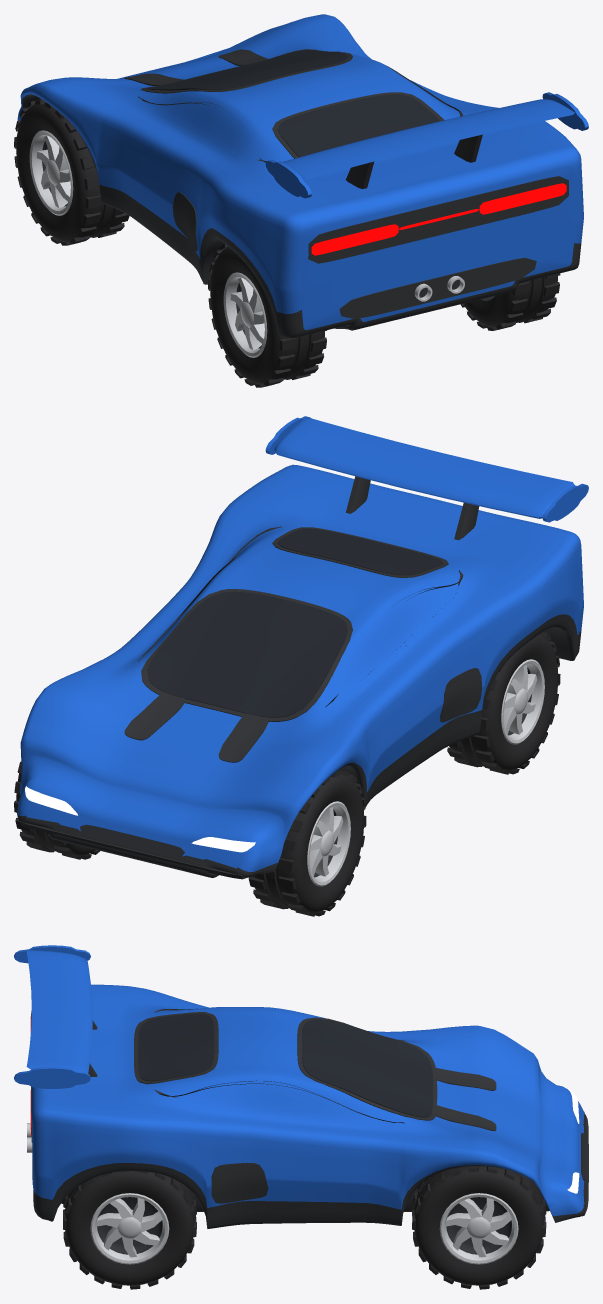
The model's file is car-wedge.glb.
3 views of the same model, one above another, from view 1: azimuth 30°, elevation 25°; view 2: azimuth 150°, elevation 25°; view 3: azimuth 270°, elevation 25° (orthographic). The views are drawn at different scales.
Visible parts, largest first — view 1: Car_Wedge_Body, Car_Wedge_Trim, Car_Wedge_Wheel_FL, Car_Wedge_Glass, Car_Wedge_Spoiler, Car_Wedge_Wheel_RL, Car_Wedge_Wheel_RR, Car_Wedge_Taillights; view 2: Car_Wedge_Body, Car_Wedge_Glass, Car_Wedge_Spoiler, Car_Wedge_Trim, Car_Wedge_Wheel_FL, Car_Wedge_Wheel_RL, Car_Wedge_Wheel_FR, Car_Wedge_Headlights; view 3: Car_Wedge_Body, Car_Wedge_Wheel_FR, Car_Wedge_Glass, Car_Wedge_Wheel_RR, Car_Wedge_Spoiler, Car_Wedge_Trim.
Part boxes in pixels (x1=…): Car_Wedge_Body: x1=17, y1=14, x2=583, y2=338; Car_Wedge_Trim: x1=124, y1=49, x2=568, y2=319; Car_Wedge_Wheel_FL: x1=14, y1=99, x2=129, y2=245; Car_Wedge_Glass: x1=142, y1=50, x2=462, y2=161; Car_Wedge_Spoiler: x1=265, y1=92, x2=588, y2=198; Car_Wedge_Wheel_RL: x1=208, y1=244, x2=326, y2=387; Car_Wedge_Wheel_RR: x1=460, y1=273, x2=560, y2=330; Car_Wedge_Taillights: x1=311, y1=183, x2=566, y2=255; Car_Wedge_Body: x1=17, y1=464, x2=583, y2=877; Car_Wedge_Glass: x1=142, y1=528, x2=462, y2=717; Car_Wedge_Spoiler: x1=265, y1=416, x2=588, y2=540; Car_Wedge_Trim: x1=20, y1=526, x2=482, y2=879; Car_Wedge_Wheel_FL: x1=248, y1=770, x2=366, y2=916; Car_Wedge_Wheel_RL: x1=447, y1=632, x2=560, y2=774; Car_Wedge_Wheel_FR: x1=14, y1=761, x2=99, y2=859; Car_Wedge_Headlights: x1=25, y1=786, x2=255, y2=852; Car_Wedge_Body: x1=31, y1=984, x2=587, y2=1228; Car_Wedge_Wheel_FR: x1=412, y1=1166, x2=546, y2=1289; Car_Wedge_Glass: x1=138, y1=1008, x2=432, y2=1122; Car_Wedge_Wheel_RR: x1=63, y1=1171, x2=196, y2=1289; Car_Wedge_Spoiler: x1=14, y1=945, x2=97, y2=1088; Car_Wedge_Trim: x1=27, y1=1009, x2=588, y2=1216.
Bounding box in the file's own units: 0.7005 × 0.5121 × 1.2.
